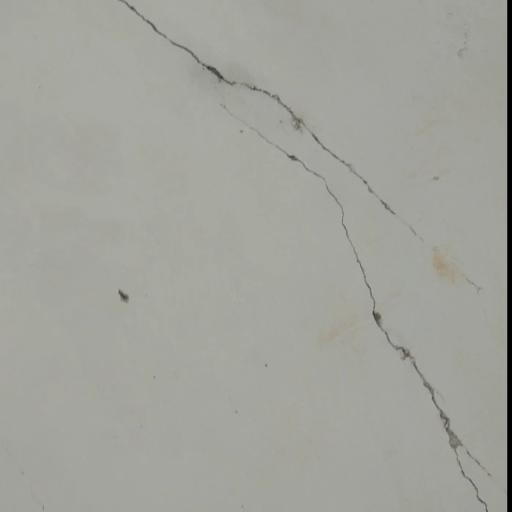minor_crack: (112, 6, 508, 512)
